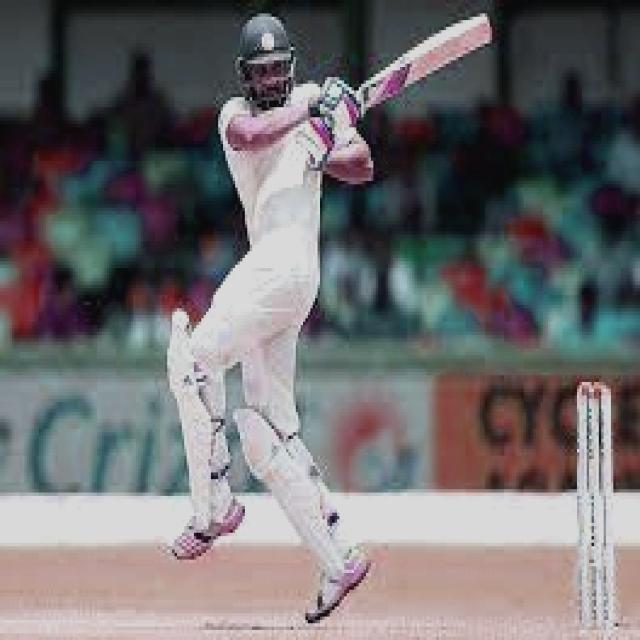toe: (467, 8, 498, 52)
